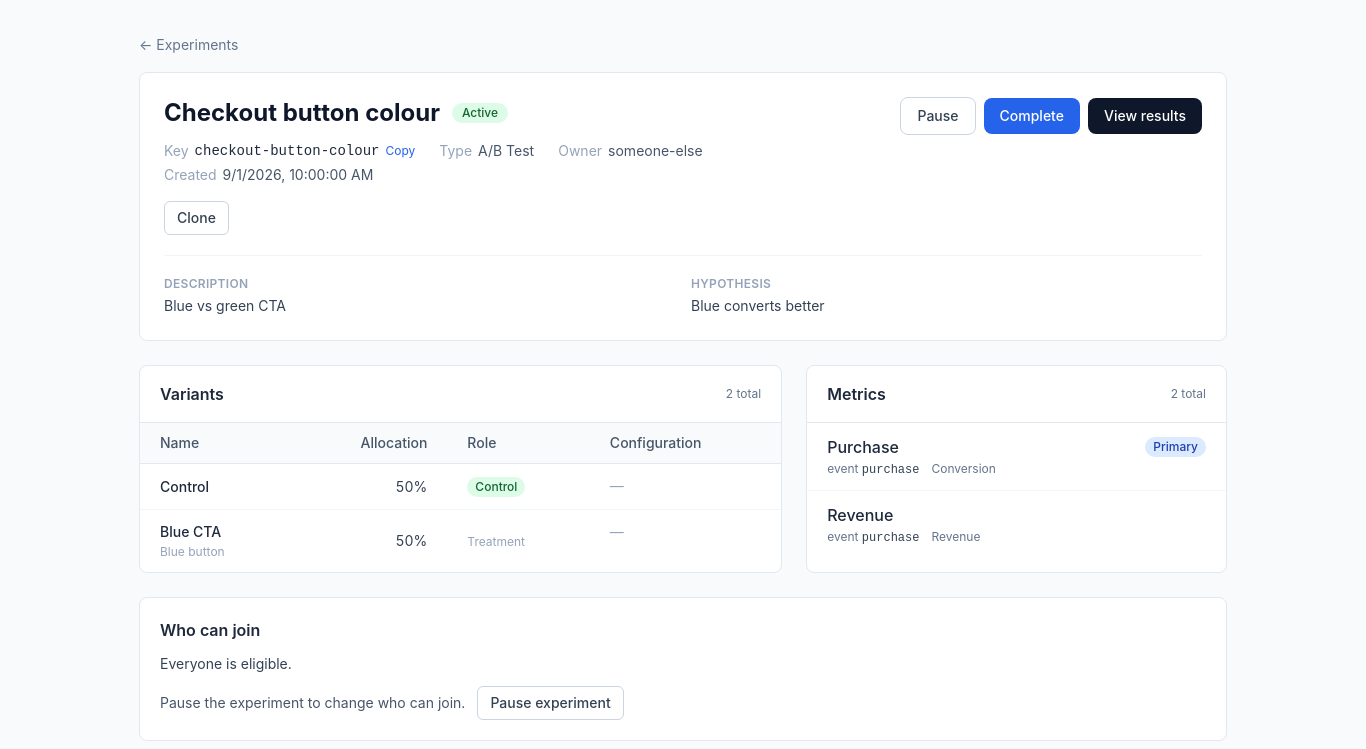
Test: ExperimentDetailPage — lifecycle actions by role › a 403 from the API still renders in action-error
Click the button with test id "action-pause" at (938, 116), box [900,97,976,135]
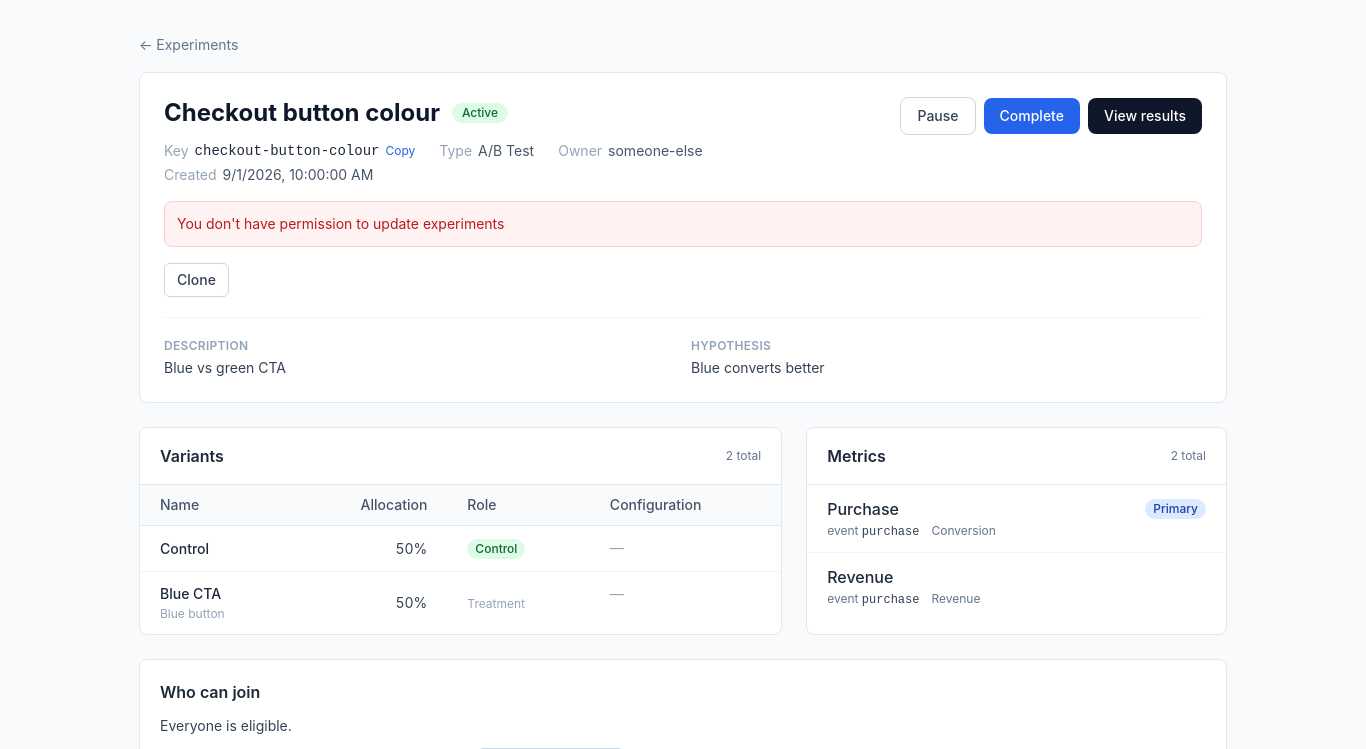
Expected: the text with test id "experiment-status" reads "Active", [462,105,498,120]
Now the message with test id "action-error" reads "You don't have permission to update experiments", box [177,215,504,232]
